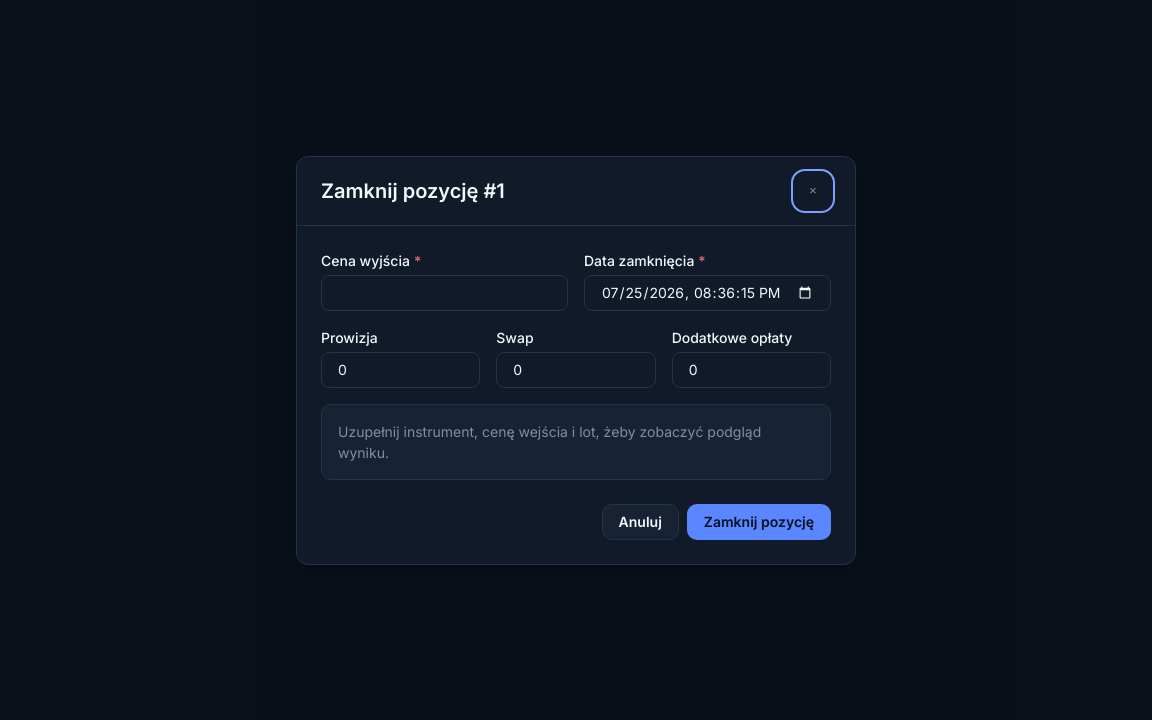
it: CloseTradeModal - walidacja ceny wyjścia › nieliczbowa cena wyjścia: komunikat WSPÓLNEGO walidatora formatu
The width and height of the screenshot is (1152, 720).
Type "abc" into the field labelled "Cena wyjścia*". click: (444, 292)
box: [321,274,568,310]
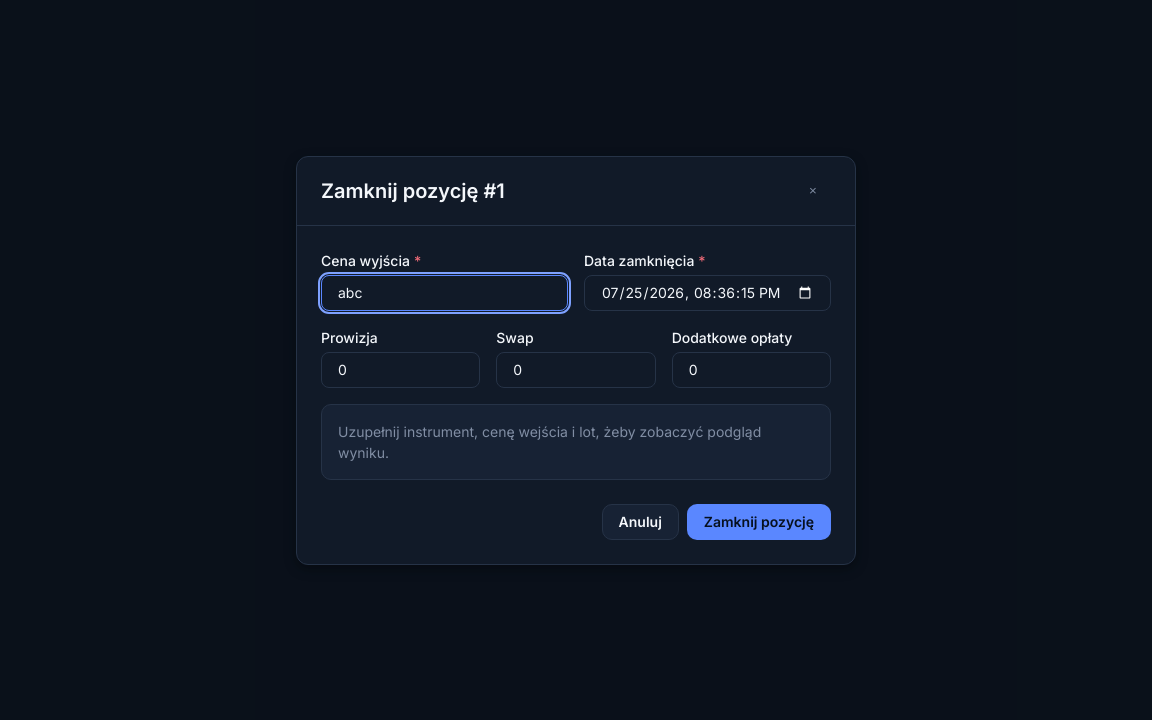
Click the button "Zamknij pozycję". click: (759, 522)
box: [687,504,831,540]
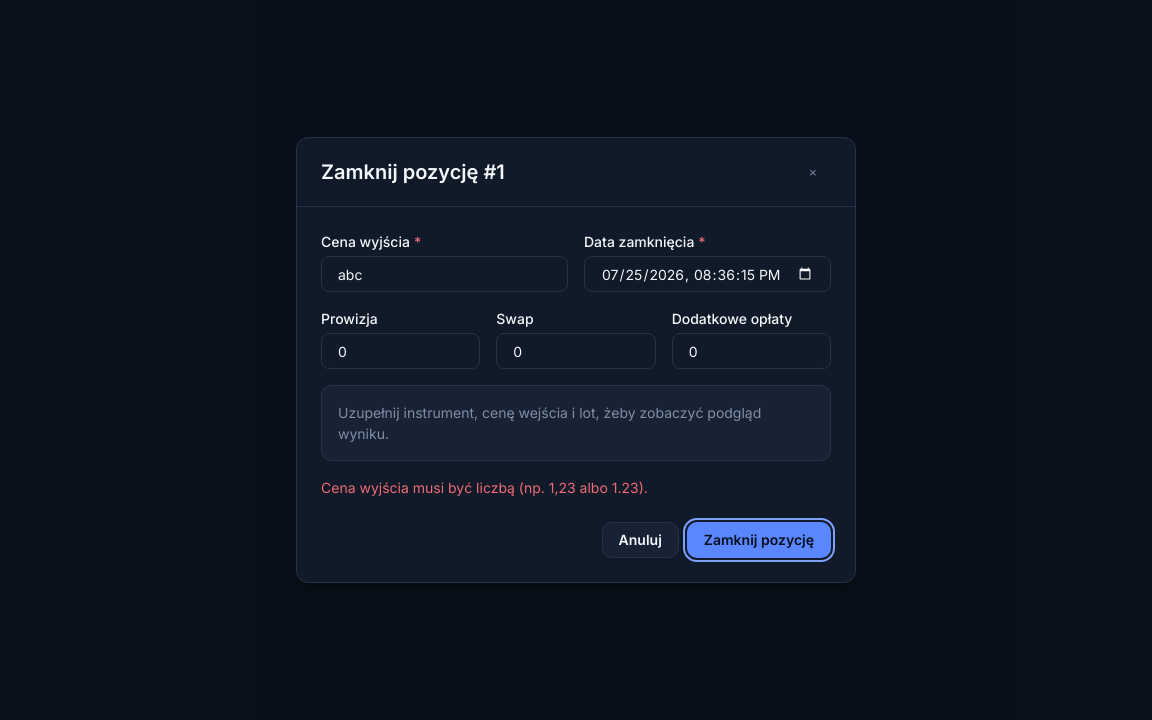
Expected: the message reads "Cena wyjścia musi być liczbą (np. 1,23 albo 1.23).", [321,479,648,496]
